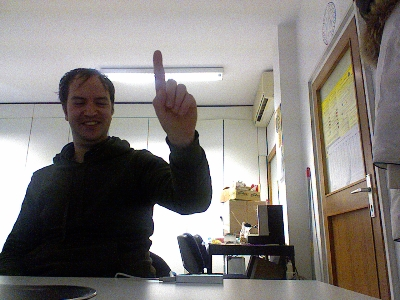食指: (150, 48, 198, 140)
